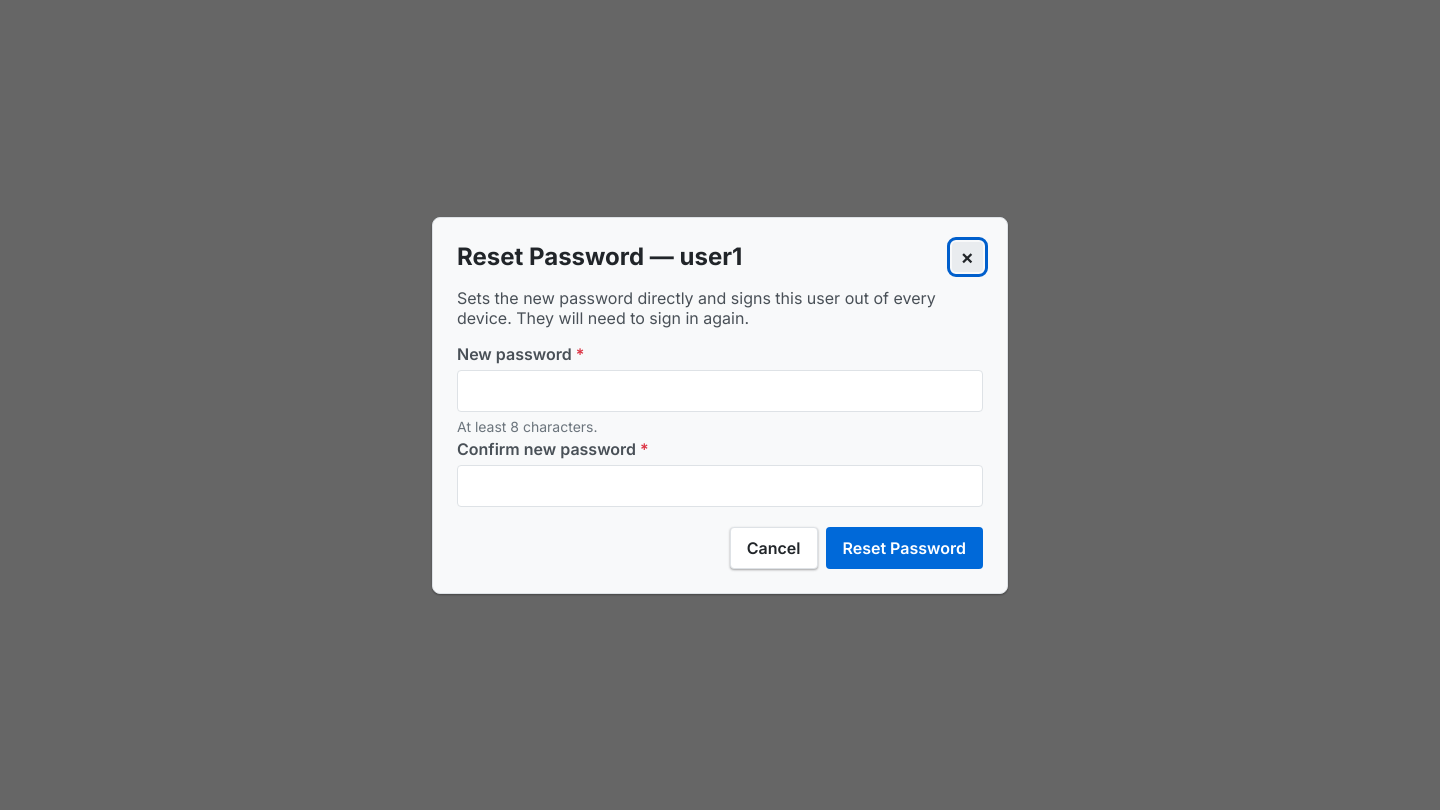
ResetPasswordModal (AUTH-004) › rejects mismatched confirmation client-side
Step 1. Type "newpassword45" into the password field labelled "New password" → (720, 390), box [457,370,983,412]
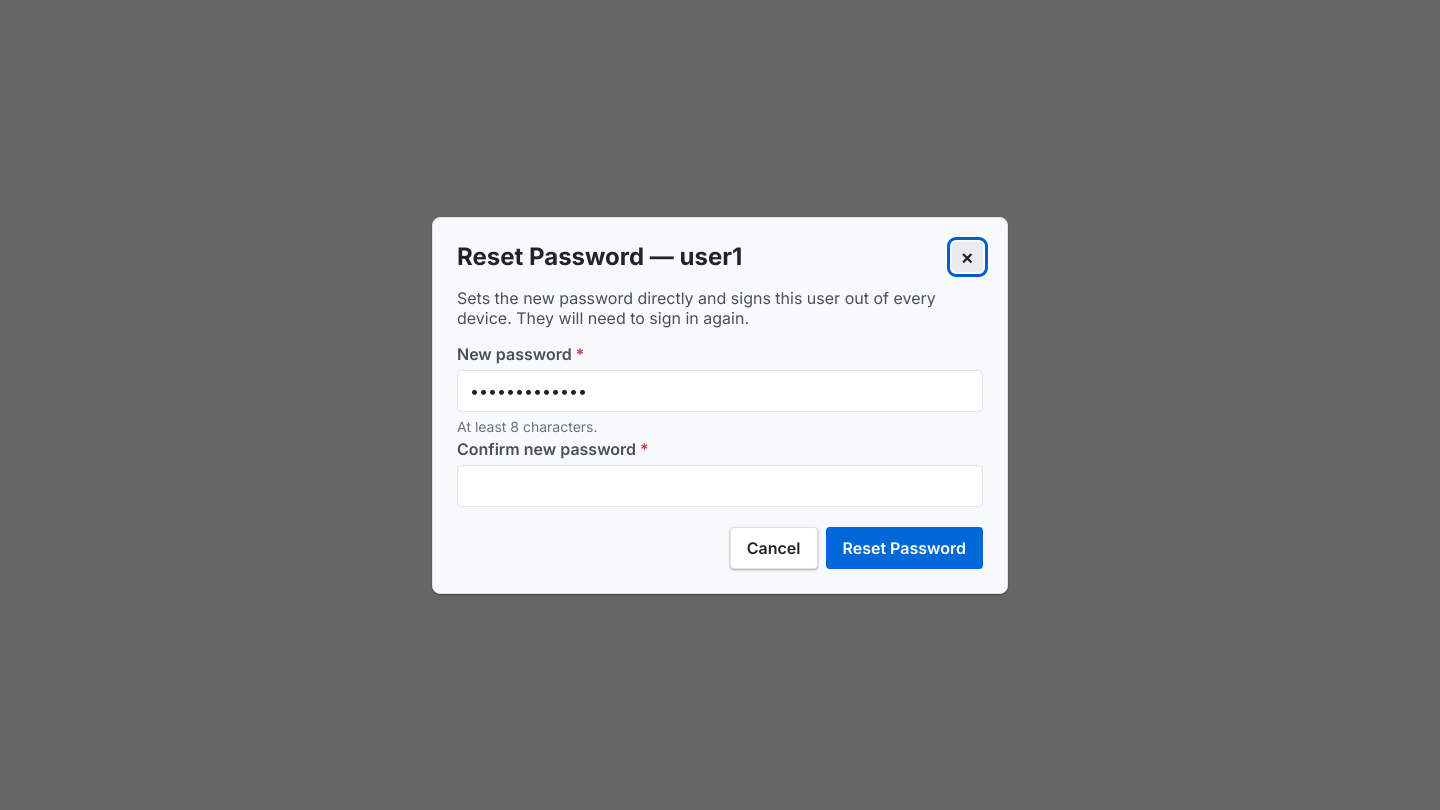
Step 2. Type "otherpassword" into the password field labelled "Confirm new password" → (720, 486), box [457,464,983,506]
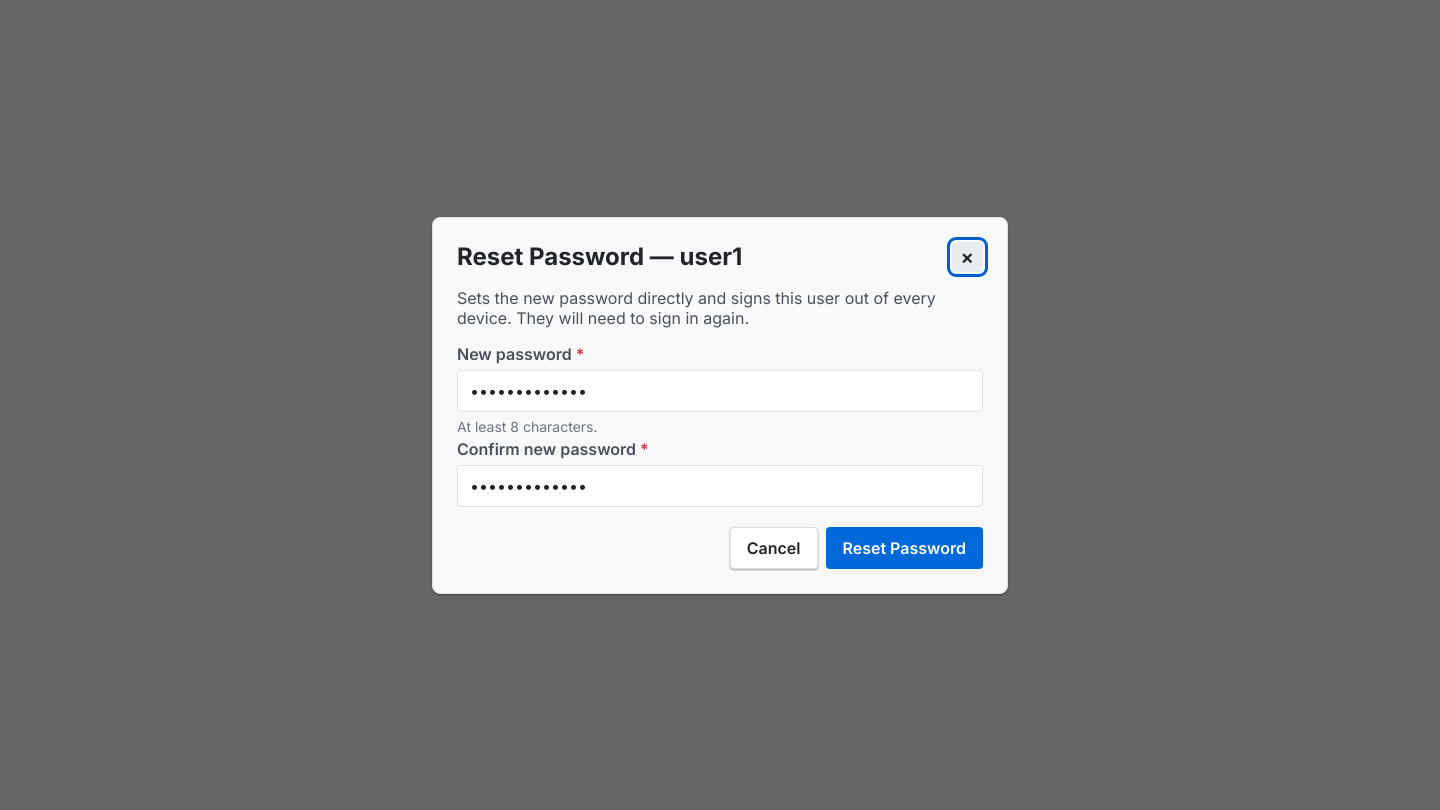
Step 3. Click the button "Reset Password" → (904, 548), box [826,526,983,568]
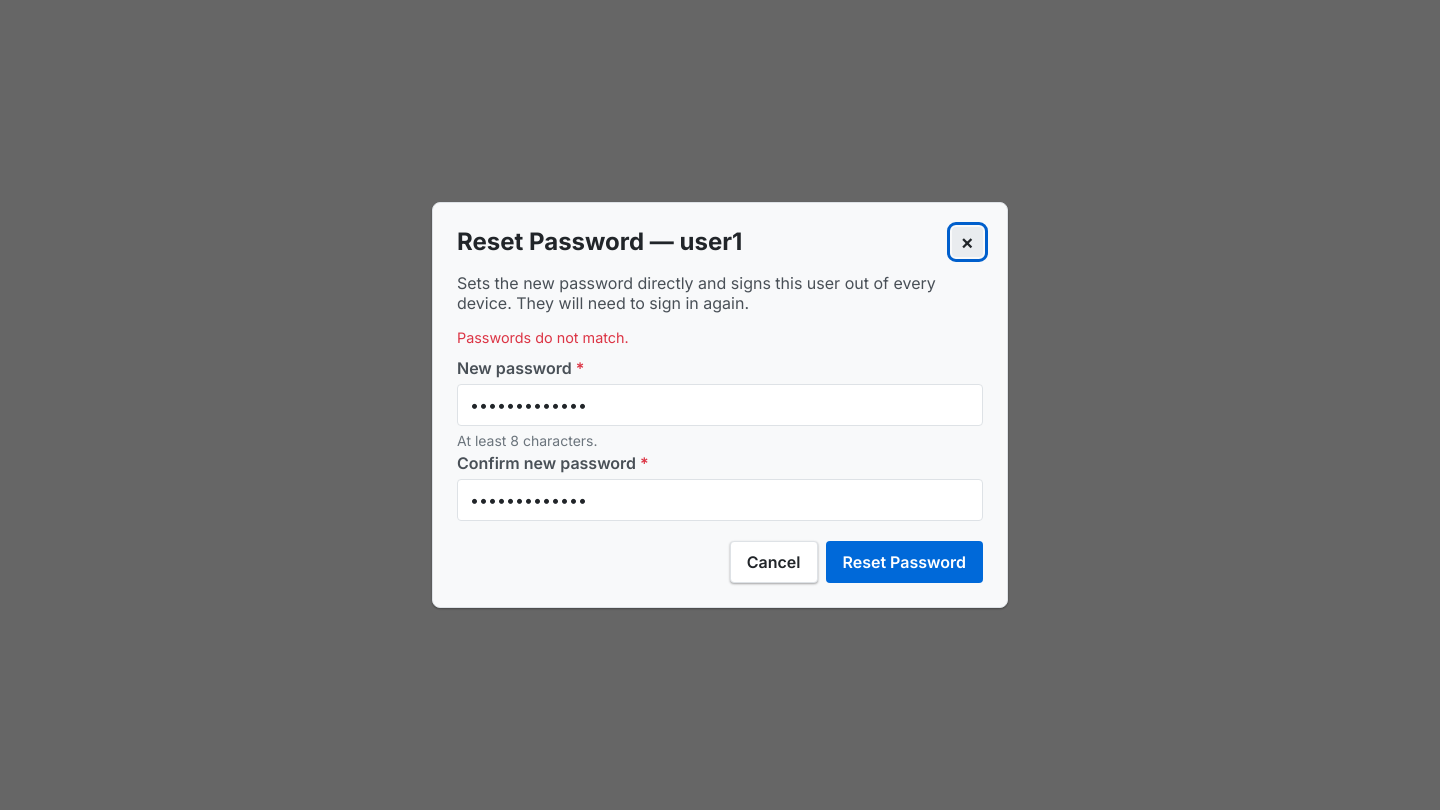
Now the text "Passwords do not match." is shown, box [457,329,629,346]
